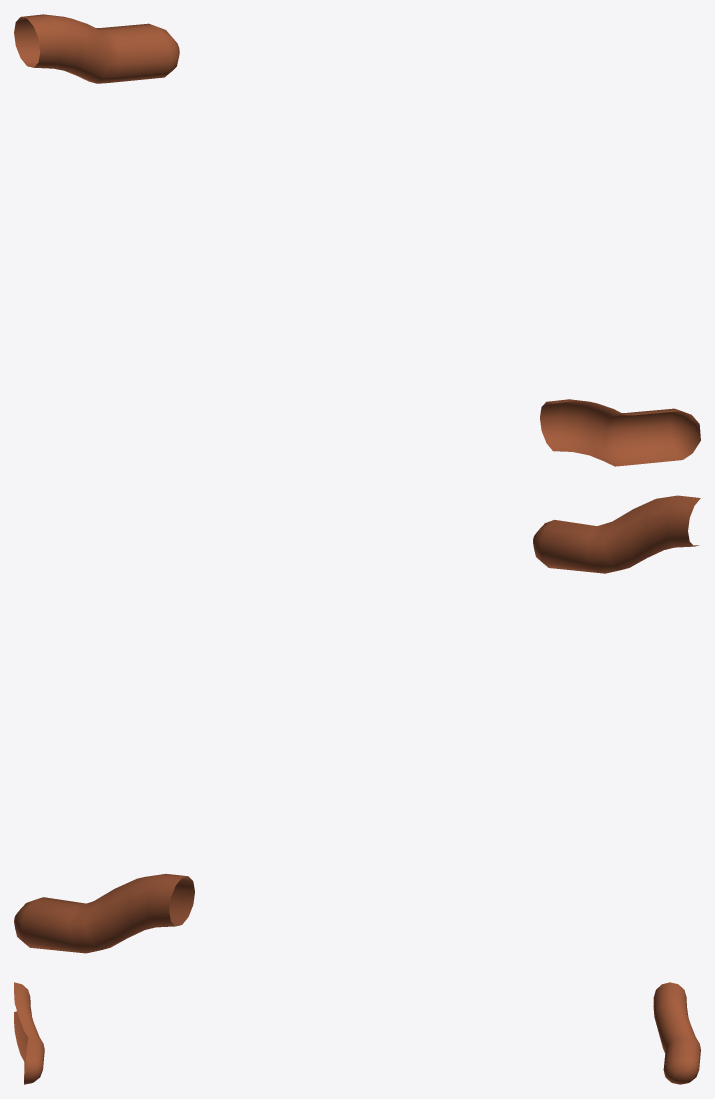
File: SM_tileSol_EndSide_Corner_Top.fbx
The picture shows the model from 3 angles, top to bottom: view 1: azimuth 30°, elevation 25°; view 2: azimuth 150°, elevation 25°; view 3: azimuth 270°, elevation 25°; orthographic projection. The views are drawn at different scales.
Visible parts, largest first — view 1: SM_tileSol_EndSide_Corner_Top; view 2: SM_tileSol_EndSide_Corner_Top; view 3: SM_tileSol_EndSide_Corner_Top.
Part boxes in pixels (x1,y1,x2,y2): SM_tileSol_EndSide_Corner_Top: (14,14,700,466); SM_tileSol_EndSide_Corner_Top: (14,495,700,953); SM_tileSol_EndSide_Corner_Top: (14,982,700,1084).
Bounding box in the file's own units: 34.33 × 20.19 × 209.
